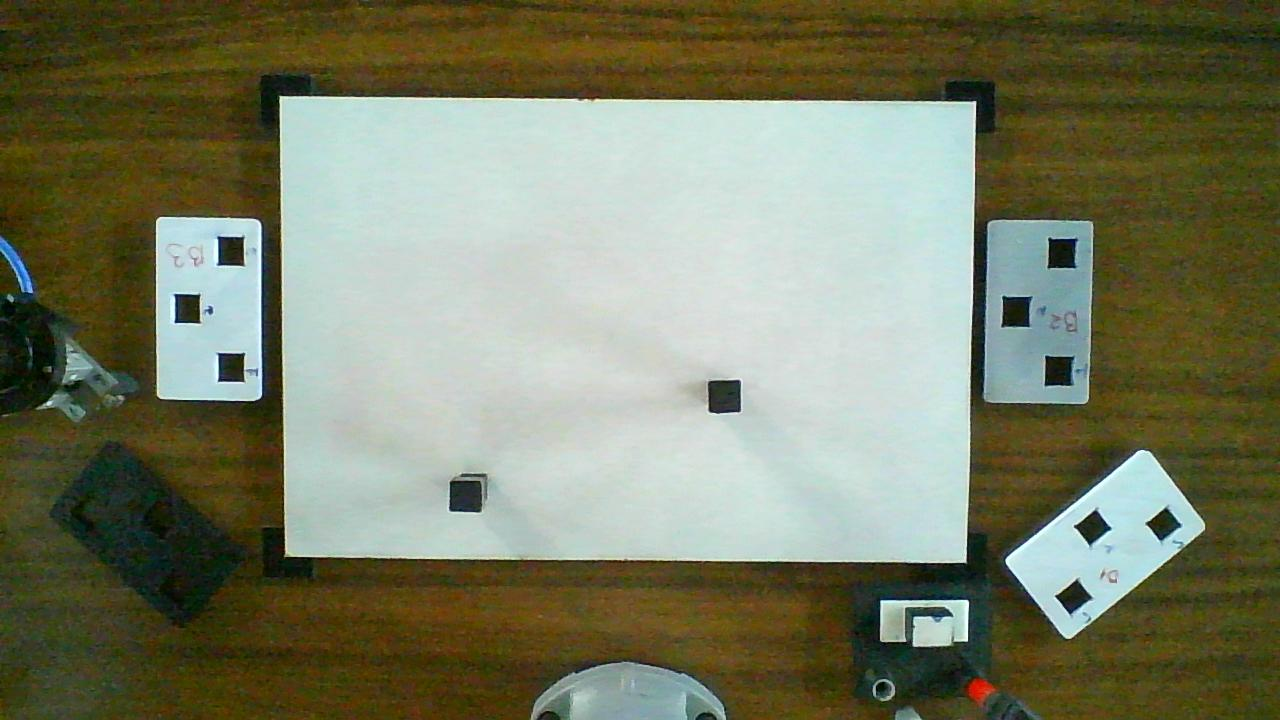peca_preta: (451, 482, 481, 512), (710, 381, 739, 412)
